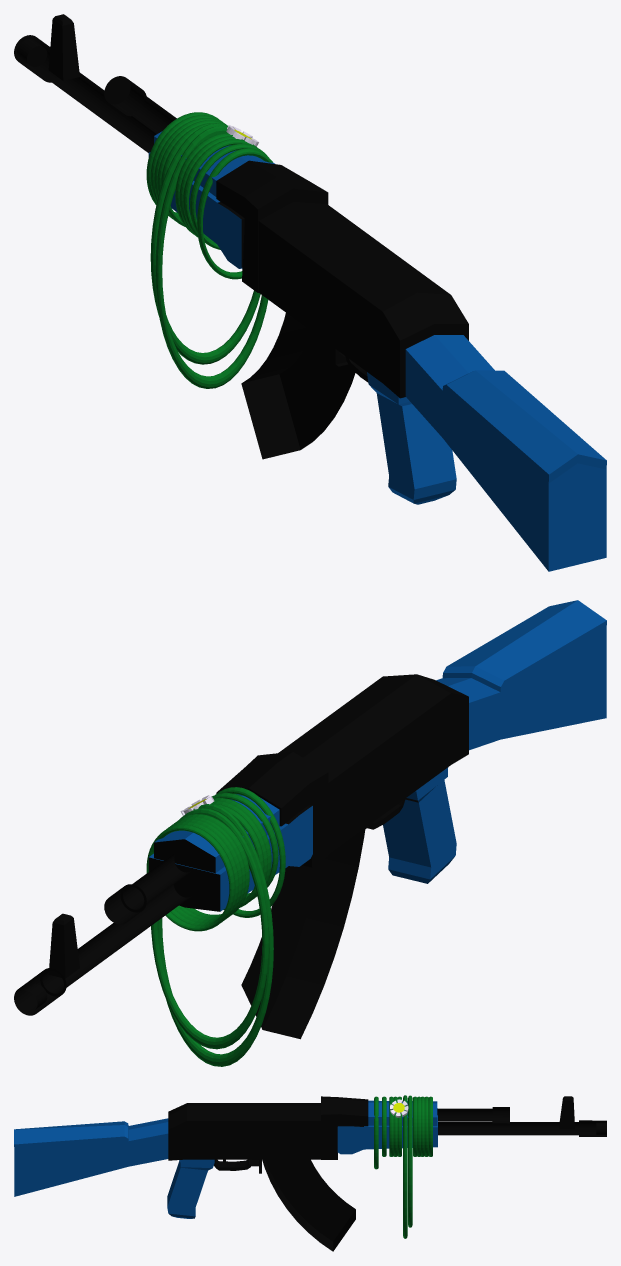
The model's file is kalash.fbx.
3 views of the same model, one above another, from view 1: azimuth 30°, elevation 25°; view 2: azimuth 150°, elevation 25°; view 3: azimuth 270°, elevation 25° (orthographic). The views are drawn at different scales.
Visible parts, largest first — view 1: Cube.003, Torus.010; view 2: Cube.003, Torus.010; view 3: Cube.003, Torus.010, Cylinder.
Part boxes in pixels (x1,y1,x2,y2): Cube.003: (14,14,606,571); Torus.010: (146,112,272,388); Cube.003: (14,600,606,1039); Torus.010: (146,787,285,1066); Cube.003: (14,1096,606,1251); Torus.010: (374,1095,432,1238); Cylinder: (390,1099,408,1117).
Size of the model in its own units: 58.65 by 134 by 478.
